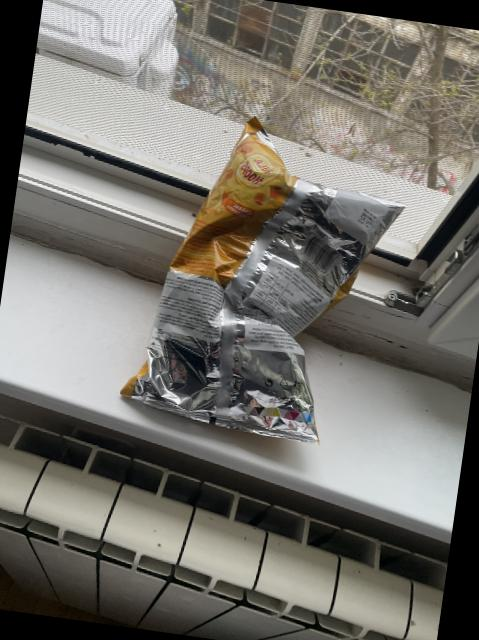Chio Hula Hoops Cheese 70g: (114, 102, 414, 452)
